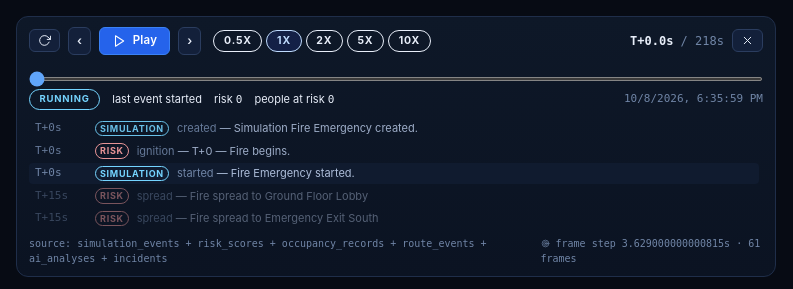
Test: ReplayControls transport (§63) › toggles play/pause without touching live state
Click the button titled "Play replay". click: x=135, y=41
box: [99,27,170,55]
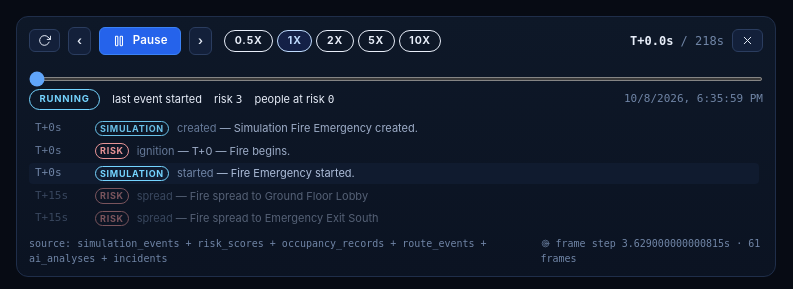
Expected: the button titled "Pause replay" is shown
Click the button titled "Pause replay". click: x=140, y=41
box: [99,27,181,55]
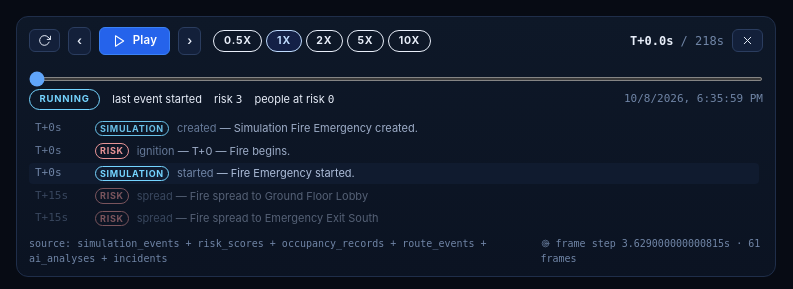
Expected: the button titled "Play replay" is shown, [99,27,170,55]
